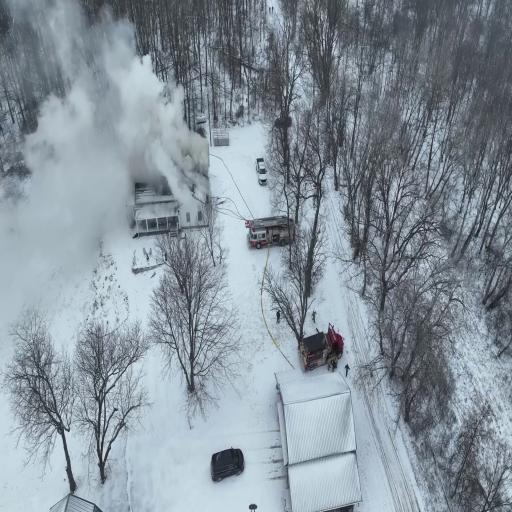smoke: (112, 74, 184, 163)
